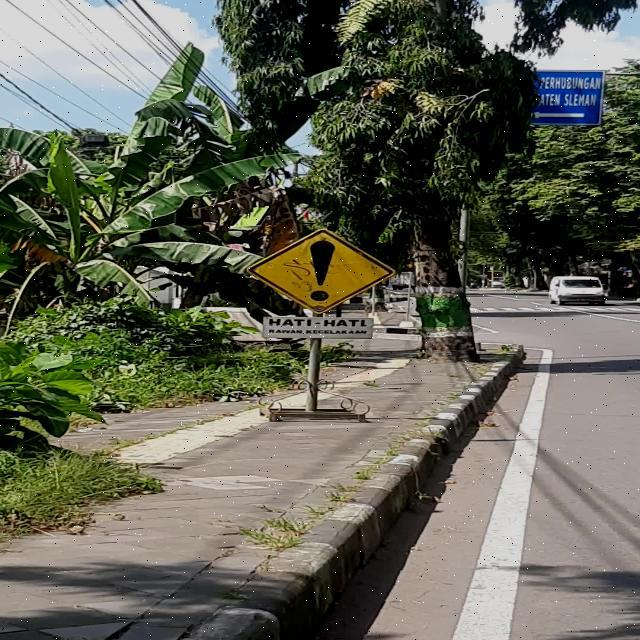Hati-Hati: (245, 229, 396, 314)
